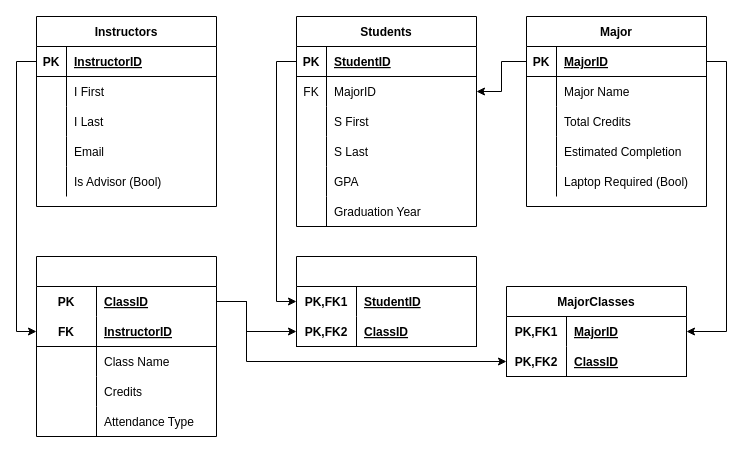
Image size: 743x453. Some labels were removed from this diagram. The box of each missing label's shape, as (x1, y1, x2, y2) in pixels:
Classes: (36, 256, 216, 436)
StudentClasses: (296, 256, 476, 346)
